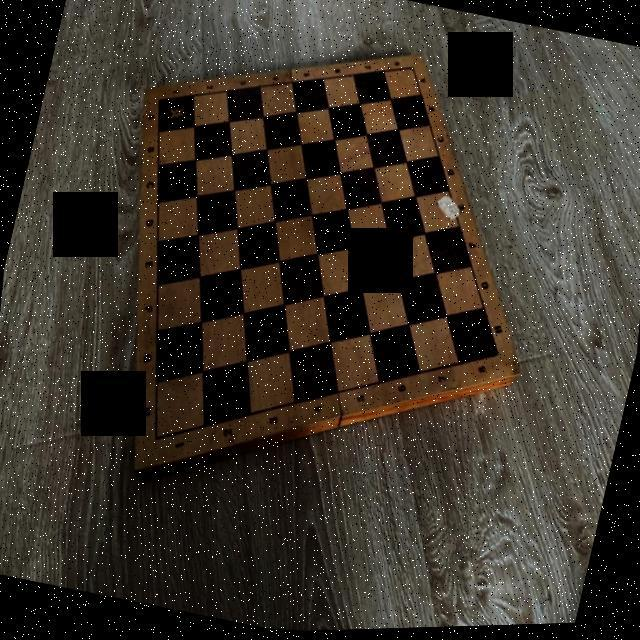chess-table-corners: (488, 348, 506, 366), (148, 432, 162, 448), (406, 62, 418, 78), (154, 95, 164, 108)
